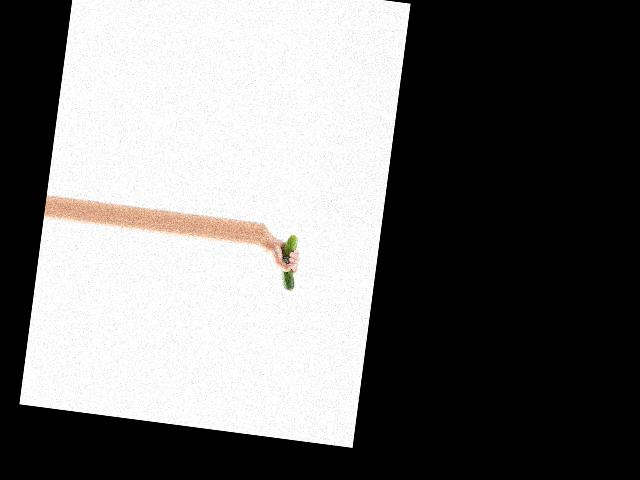cucumber: (277, 234, 301, 291)
